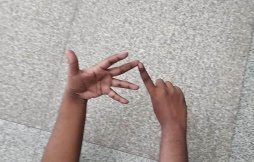u: (65, 47, 159, 107)
